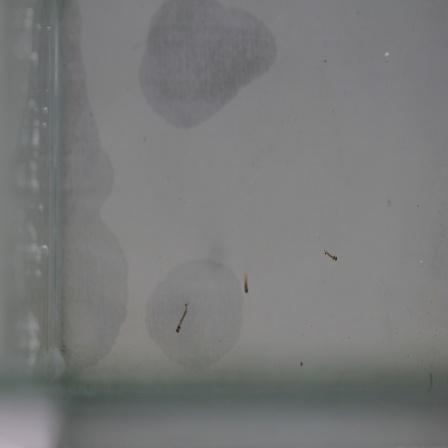Jentik-Nyamuk: (170, 299, 194, 336), (321, 245, 343, 266), (241, 272, 255, 300)
